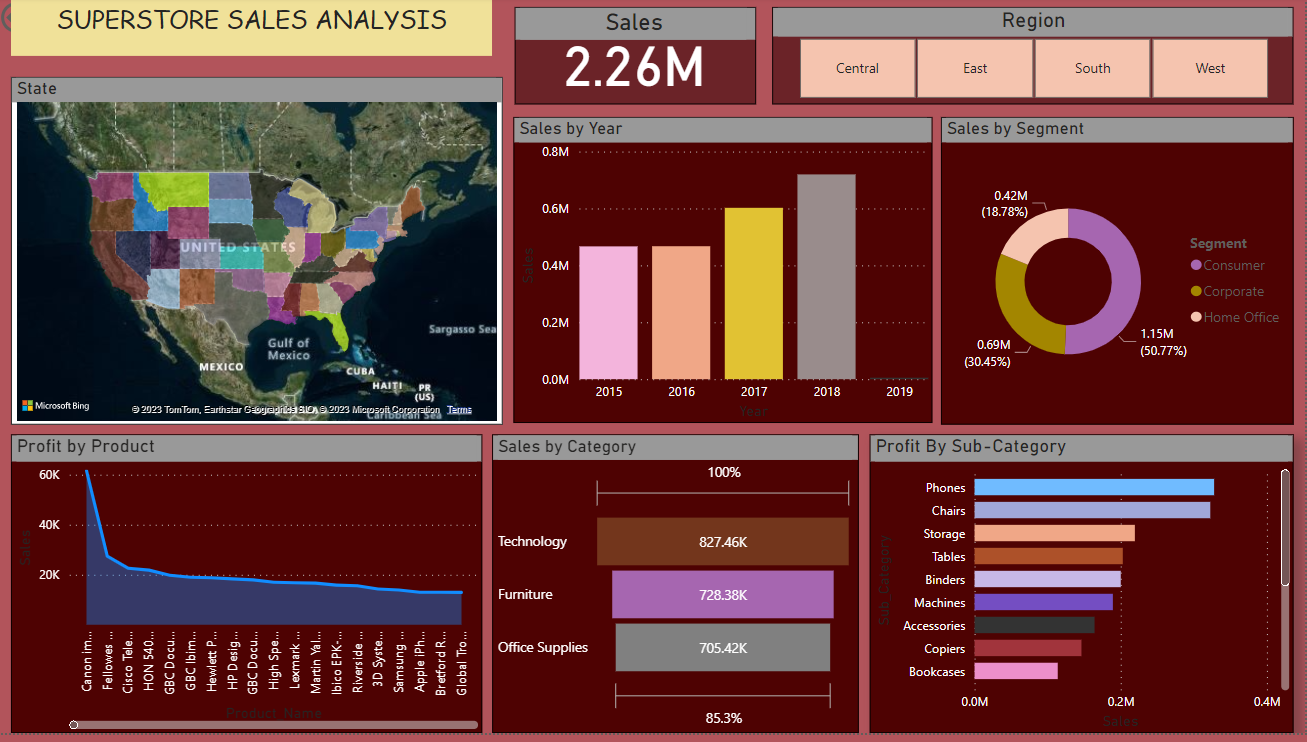

The page's visual inventory and layout, read from the dashboard file:
{"tool":"powerbi","page":{"name":"Page 1","canvas":[1280,720],"ordinal":0},"visuals":[{"type":"filledMap","fields":{"Category":["siddd-sample - final_sample_store csv.State"]},"box":[14.7,78.2,480.4,339.8],"z":0},{"type":"clusteredColumnChart","fields":{"Category":["siddd-sample - final_sample_store csv.Ship_Date.Variation.Date Hierarchy.Year"],"Y":["Sum(siddd-sample - final_sample_store csv.Sales)"]},"box":[506.1,117.4,409.5,299.5],"z":1000},{"type":"stackedAreaChart","title":"Profit by Product","fields":{"Category":["siddd-sample - final_sample_store csv.Product_Name"],"Y":["Sum(siddd-sample - final_sample_store csv.Sales)"]},"box":[14.7,427.8,460.8,292.2],"z":2000},{"type":"clusteredBarChart","title":"Profit By Sub-Category","fields":{"Category":["siddd-sample - final_sample_store csv.Sub_Category"],"Y":["Sum(siddd-sample - final_sample_store csv.Sales)"]},"box":[854.5,427.8,414.4,292.2],"z":3000},{"type":"donutChart","fields":{"Category":["siddd-sample - final_sample_store csv.Segment"],"Y":["Sum(siddd-sample - final_sample_store csv.Sales)"]},"box":[924.1,117.4,344.7,300.7],"z":4000},{"type":"card","title":"Sales","fields":{"Values":["Sum(siddd-sample - final_sample_store csv.Sales)"]},"box":[507.3,9.8,235.9,95.3],"z":5000},{"type":"funnel","fields":{"Category":["siddd-sample - final_sample_store csv.Category"],"Y":["Sum(siddd-sample - final_sample_store csv.Sales)"]},"box":[485.3,427.8,358.2,292.2],"z":6000},{"type":"actionButton","box":[0,0,100,40],"z":7000},{"type":"textbox","box":[14.7,0,470.6,57.5],"z":8000},{"type":"slicer","title":"Region","fields":{"Values":["siddd-sample - final_sample_store csv.Region"]},"box":[759.1,9.8,509.7,95.3],"z":8001}]}

Visuals, with their boxes in screenshot pixels (x1, y1, x2, y2), scaled from the page's 1280x720 canvas onto the 1307x742 screenshot:
filledMap - siddd-sample - final_sample_store csv.State: left=15, top=81, right=506, bottom=431
clusteredColumnChart - siddd-sample - final_sample_store csv.Ship_Date.Variation.Date Hierarchy.Year x Sum(siddd-sample - final_sample_store csv.Sales): left=517, top=121, right=935, bottom=430
"Profit by Product" stackedAreaChart: left=15, top=441, right=486, bottom=741
"Profit By Sub-Category" clusteredBarChart: left=873, top=441, right=1296, bottom=741
donutChart - siddd-sample - final_sample_store csv.Segment x Sum(siddd-sample - final_sample_store csv.Sales): left=944, top=121, right=1296, bottom=431
"Sales" card: left=518, top=10, right=759, bottom=108
funnel - siddd-sample - final_sample_store csv.Category x Sum(siddd-sample - final_sample_store csv.Sales): left=496, top=441, right=861, bottom=741
actionButton: left=0, top=0, right=102, bottom=41
textbox: left=15, top=0, right=496, bottom=59
"Region" slicer: left=775, top=10, right=1296, bottom=108
